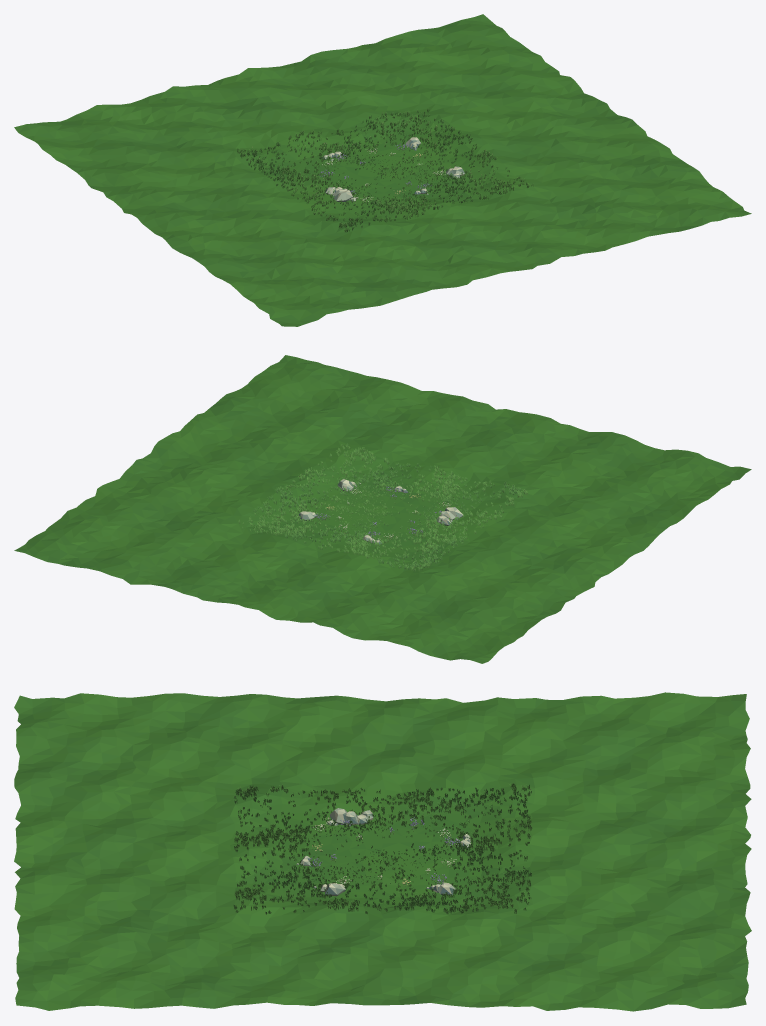
The model's file is camp-runtime-clearing.glb.
3 renders of one model, top to bottom at view 1: azimuth 30°, elevation 25°; view 2: azimuth 150°, elevation 25°; view 3: azimuth 270°, elevation 25°, orthographic. The views are drawn at different scales.
Parts seen in each view (by area): view 1: Emerald meadow facets.001, Fine meadow drift grass.001, Pale alpine stone facets.001, Alpine wildflower blossom grass.001; view 2: Emerald meadow facets.001, Fine meadow drift grass.001, Pale alpine stone facets.001; view 3: Emerald meadow facets.001, Fine meadow drift grass.001, Pale alpine stone facets.001, Alpine wildflower blossom grass.001.
Boxes of the visible parts, x1=… form: Emerald meadow facets.001: x1=14, y1=14, x2=751, y2=326; Fine meadow drift grass.001: x1=237, y1=109, x2=533, y2=232; Pale alpine stone facets.001: x1=322, y1=137, x2=464, y2=201; Alpine wildflower blossom grass.001: x1=319, y1=143, x2=445, y2=201; Emerald meadow facets.001: x1=14, y1=355, x2=751, y2=663; Fine meadow drift grass.001: x1=238, y1=443, x2=527, y2=571; Pale alpine stone facets.001: x1=299, y1=479, x2=462, y2=544; Emerald meadow facets.001: x1=14, y1=692, x2=751, y2=1011; Fine meadow drift grass.001: x1=233, y1=783, x2=532, y2=914; Pale alpine stone facets.001: x1=296, y1=808, x2=470, y2=896; Alpine wildflower blossom grass.001: x1=309, y1=816, x2=459, y2=886.
Bounding box in the file's own units: 67.52 × 1.92 × 67.53.
